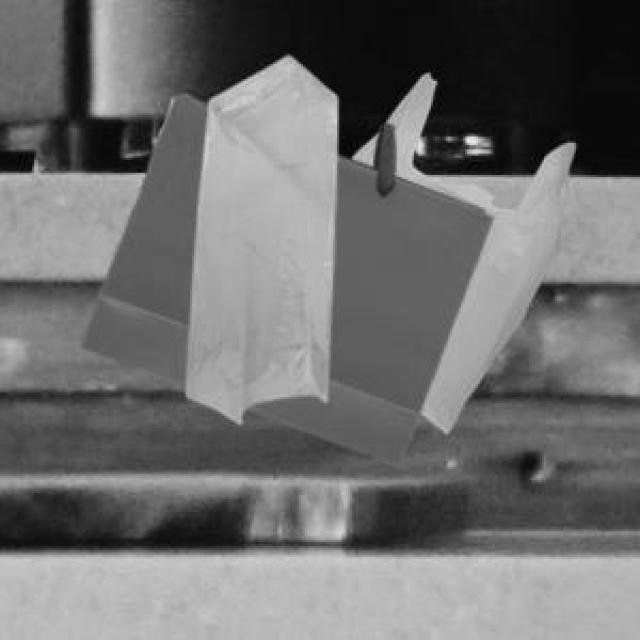paper: (77, 90, 489, 461)
